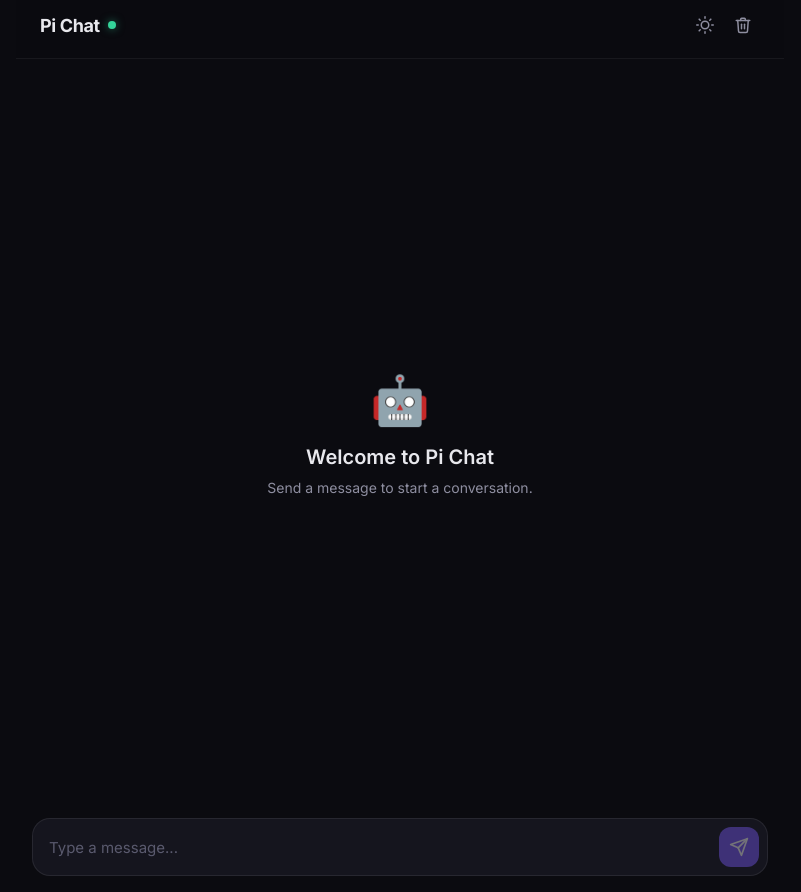
it: ChatApp › sends a message and displays the reply
This screenshot has width=801, height=892.
In the text box named "Message input": (376, 848) [41,828,711,867], type "Hello"
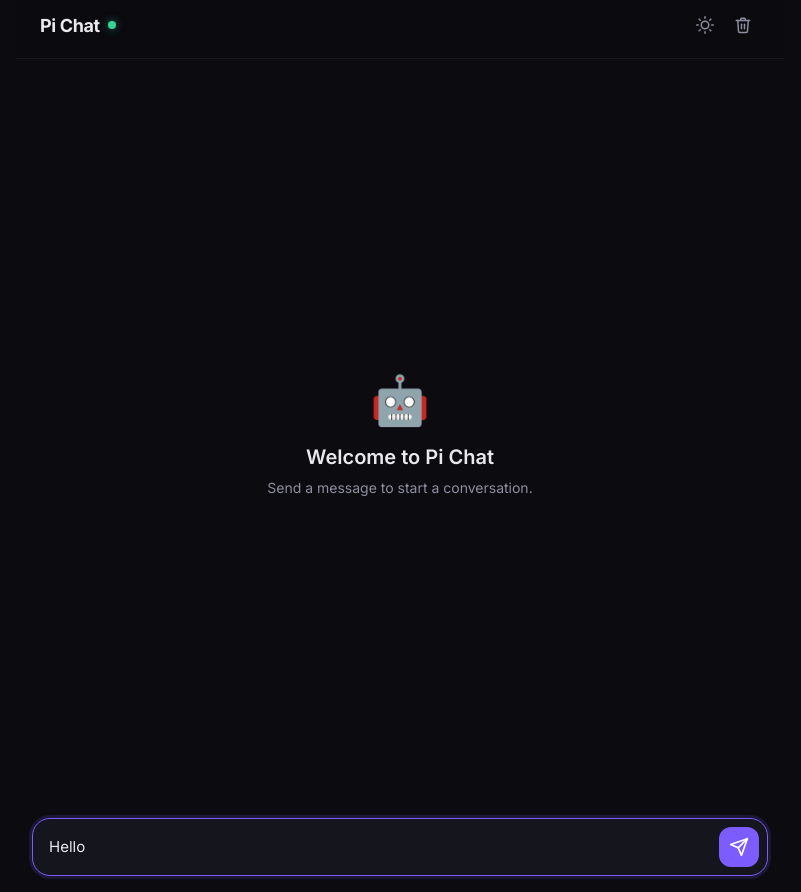
Click the button named "Send message": (739, 847) [719,827,759,867]
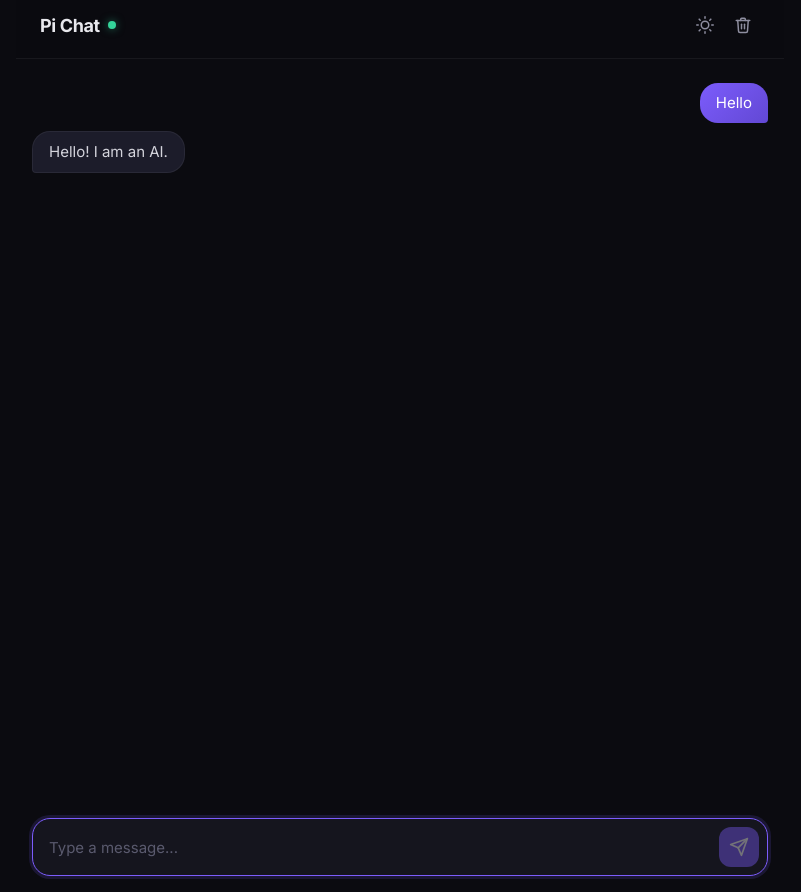
Expected: the text "Hello" is shown, [716,91,752,115]
Expected: the text "Hello! I am an AI." is shown, [49,140,168,164]
